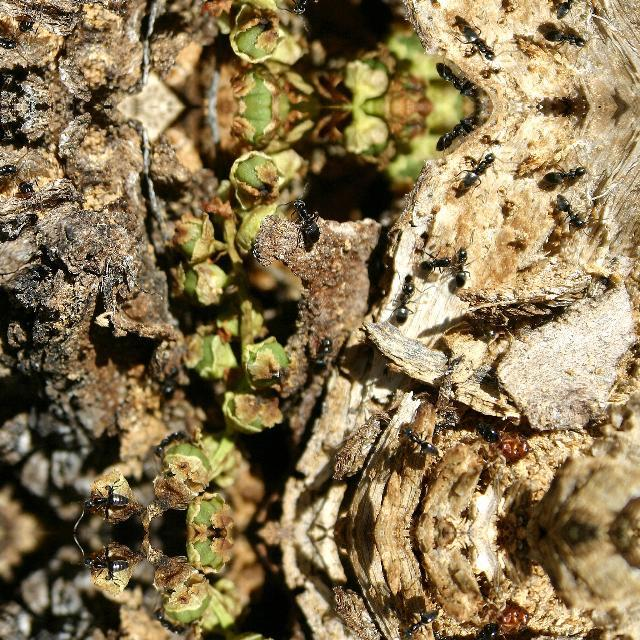Tapinoma: (470, 416, 534, 462), (468, 602, 534, 640), (76, 481, 140, 519), (76, 546, 140, 584), (282, 192, 328, 244), (383, 274, 427, 326), (454, 146, 504, 188), (454, 24, 504, 66), (428, 114, 480, 152), (428, 60, 480, 98), (549, 192, 593, 232), (396, 422, 442, 458), (150, 356, 184, 404), (394, 606, 442, 640), (306, 331, 344, 373), (539, 160, 593, 188), (539, 24, 593, 52), (450, 242, 482, 288), (148, 608, 190, 640), (148, 426, 190, 456), (280, 0, 327, 18), (416, 252, 456, 272), (549, 0, 593, 18), (0, 157, 24, 180), (0, 32, 24, 54)
